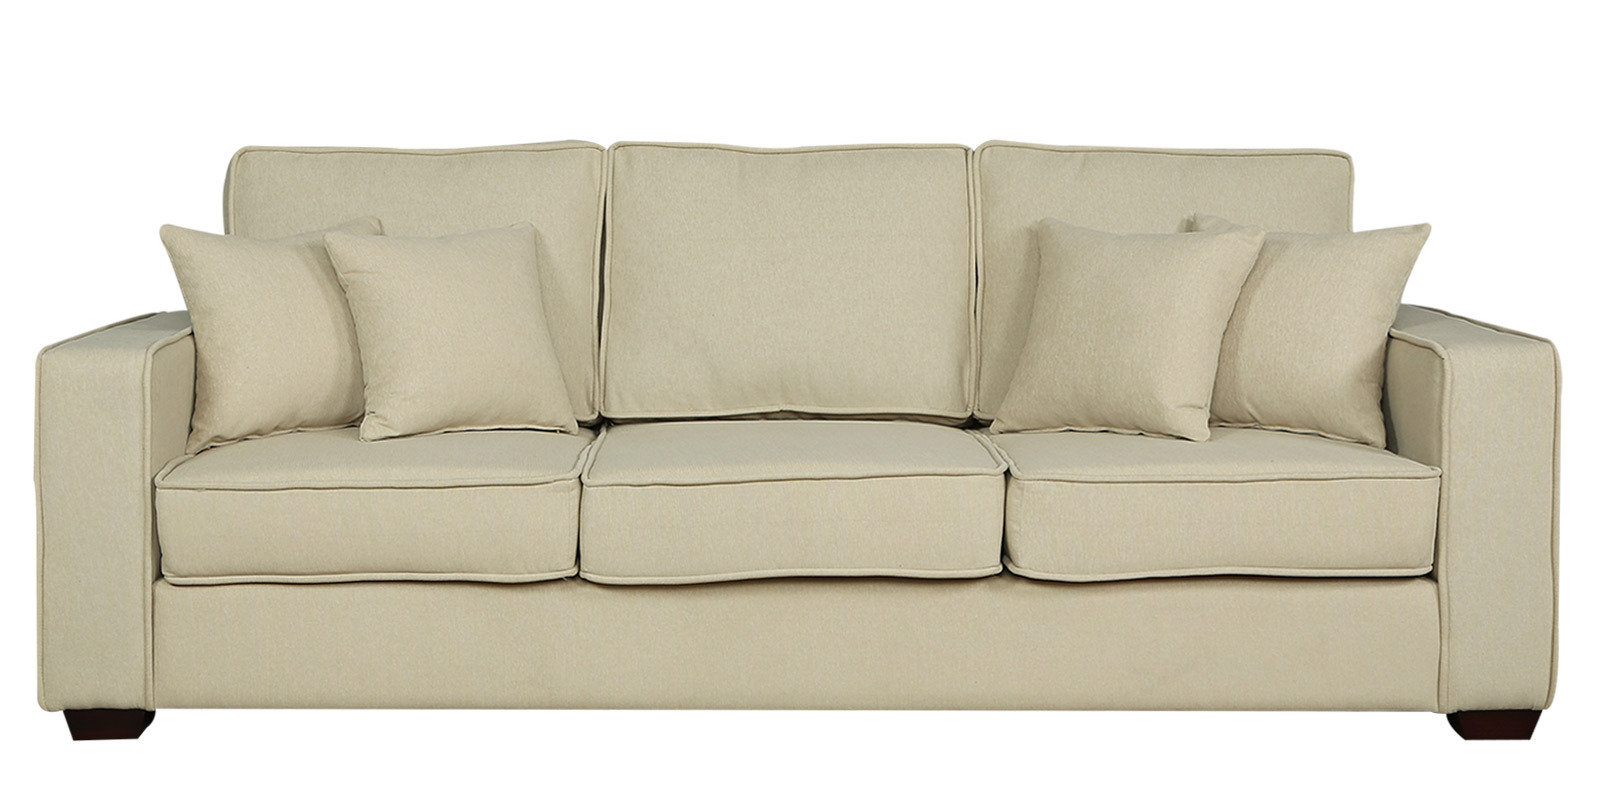Hugo Three Seater Sofa in Beige Colour by CasaCraft: (26, 110, 1592, 776)
